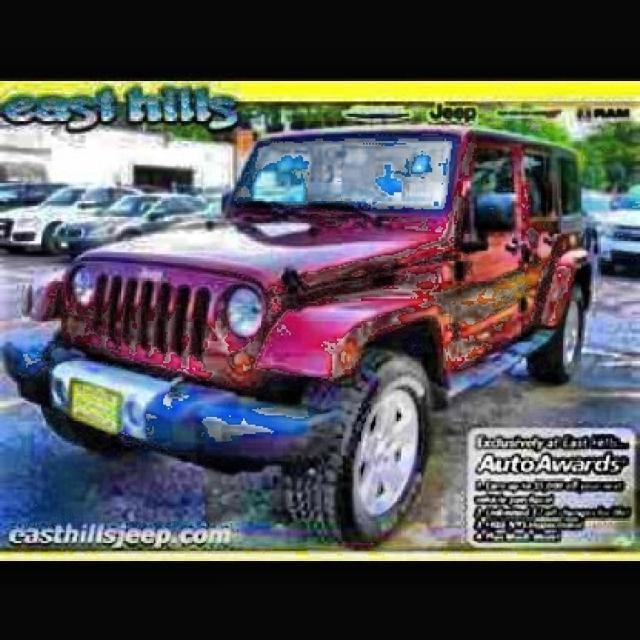maroon: (9, 127, 597, 542)
